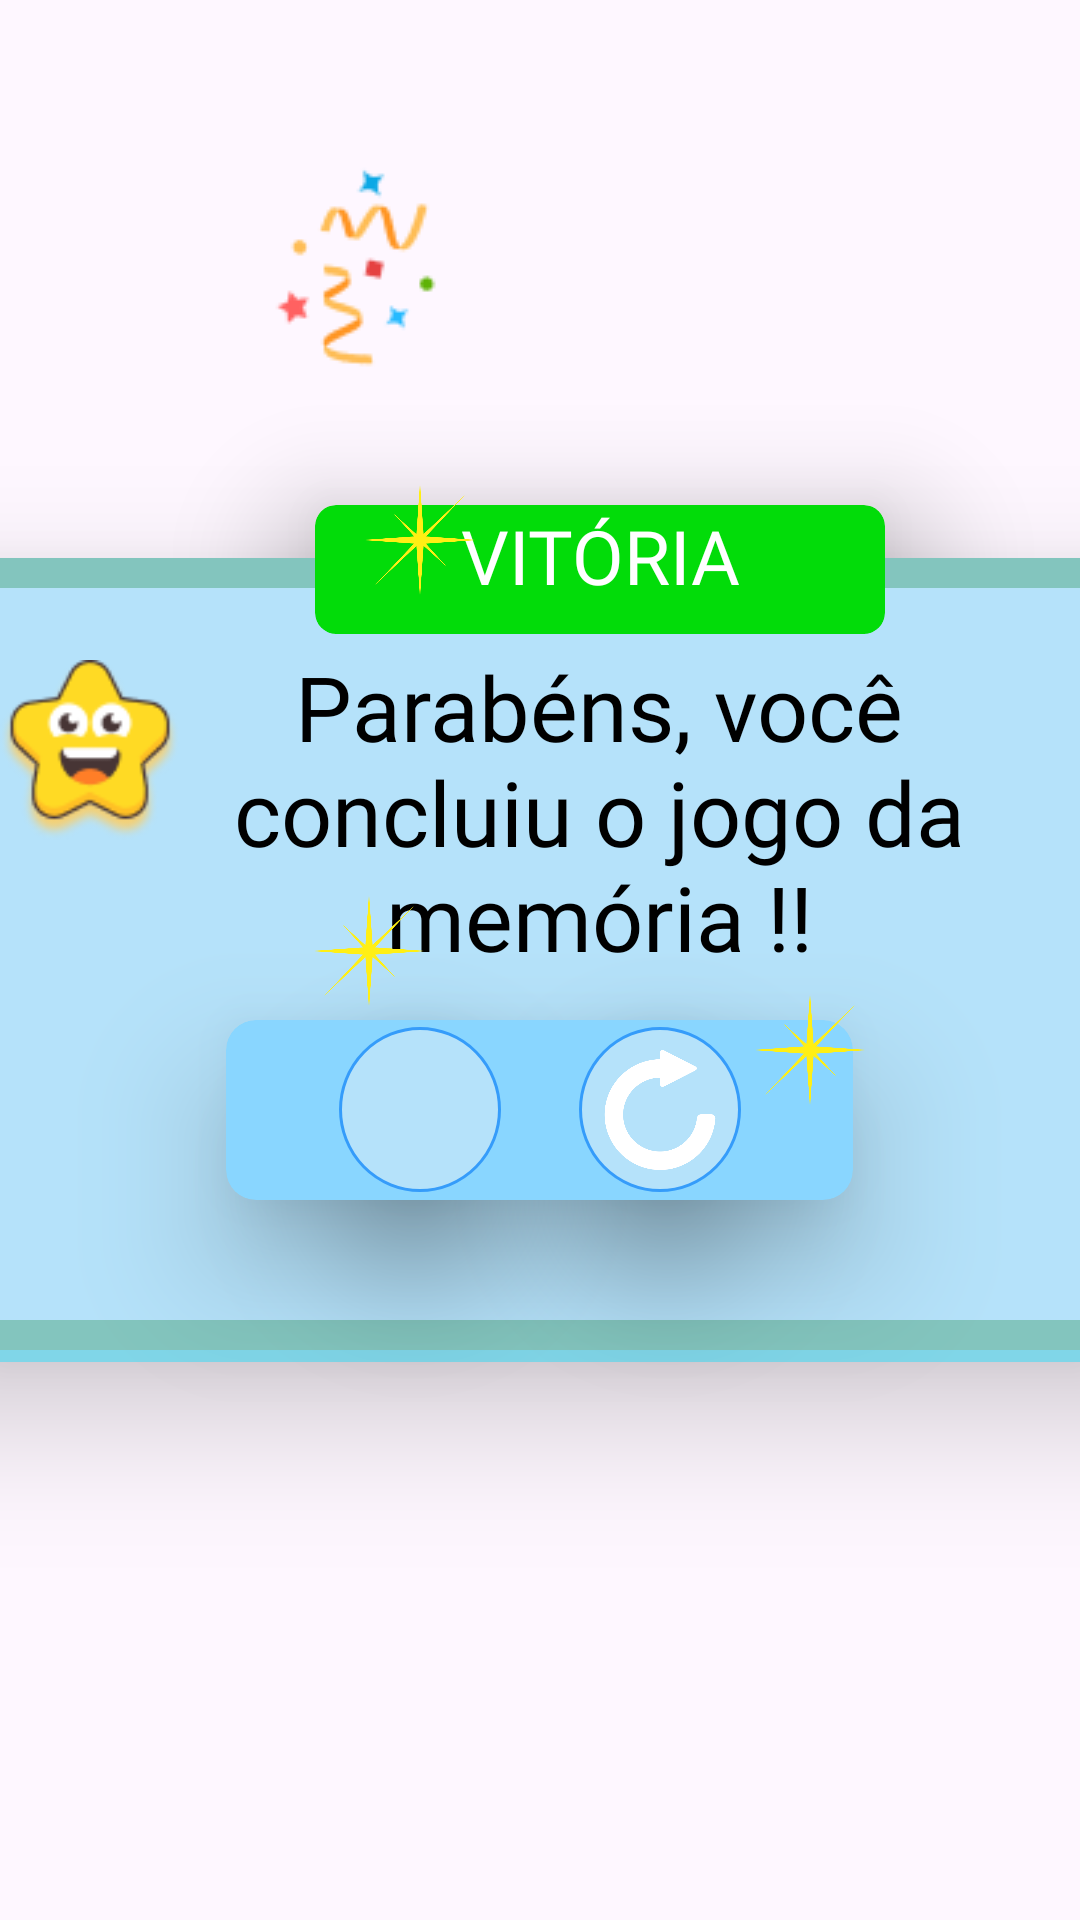

Screen size 1080 × 1920. Icon name, then its center in pixels as [x,y]:
cara feliz: [90,746]
confetti: [357,268]
